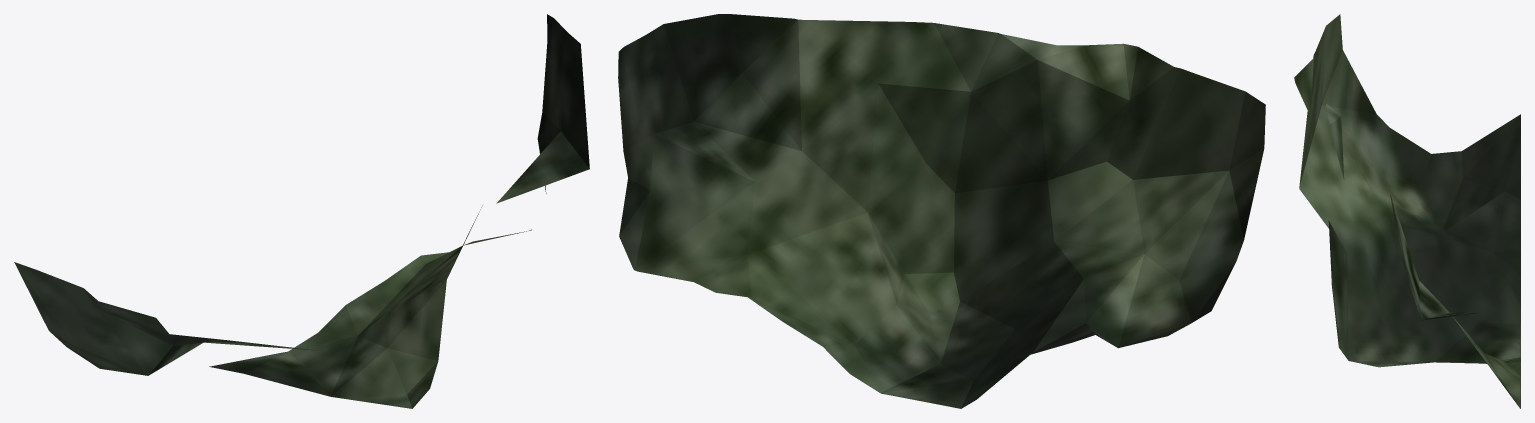
3 renders of one model, left to right at view 1: azimuth 30°, elevation 25°; view 2: azimuth 150°, elevation 25°; view 3: azimuth 270°, elevation 25°, orthographic. The views are drawn at different scales.
Size of the model in its own units: 2.26 by 1.14 by 0.9789.
1 material, 1 textured.
